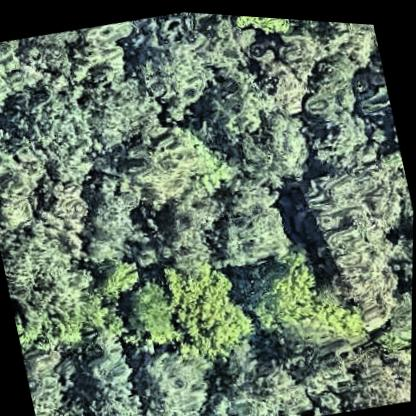tree-top: (0, 120, 118, 293), (235, 233, 371, 360), (153, 246, 263, 362), (118, 104, 232, 213), (300, 150, 413, 257), (298, 42, 380, 161), (215, 164, 301, 275), (9, 269, 114, 357), (74, 55, 164, 149), (233, 97, 319, 189), (134, 23, 218, 116), (219, 342, 319, 416), (67, 328, 148, 416), (132, 337, 219, 416), (75, 181, 147, 275), (343, 312, 413, 407), (0, 27, 79, 110), (62, 15, 147, 87), (117, 269, 182, 350), (226, 12, 292, 39)
